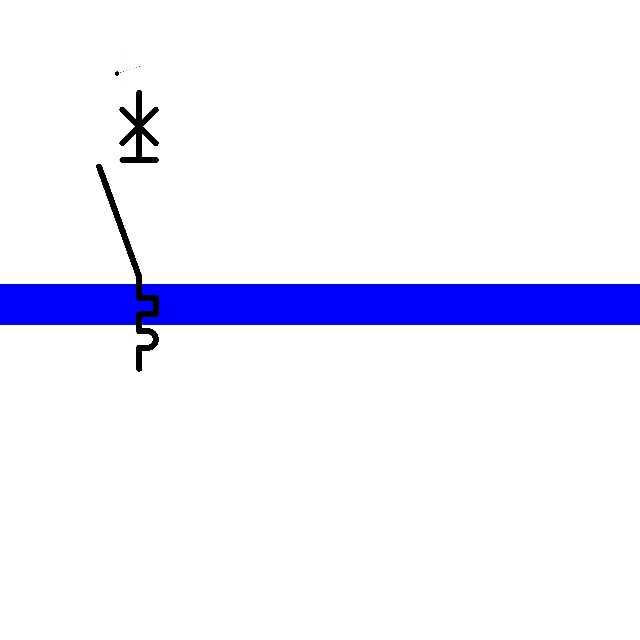interruptor_termomagnetico: (92, 85, 163, 376)
